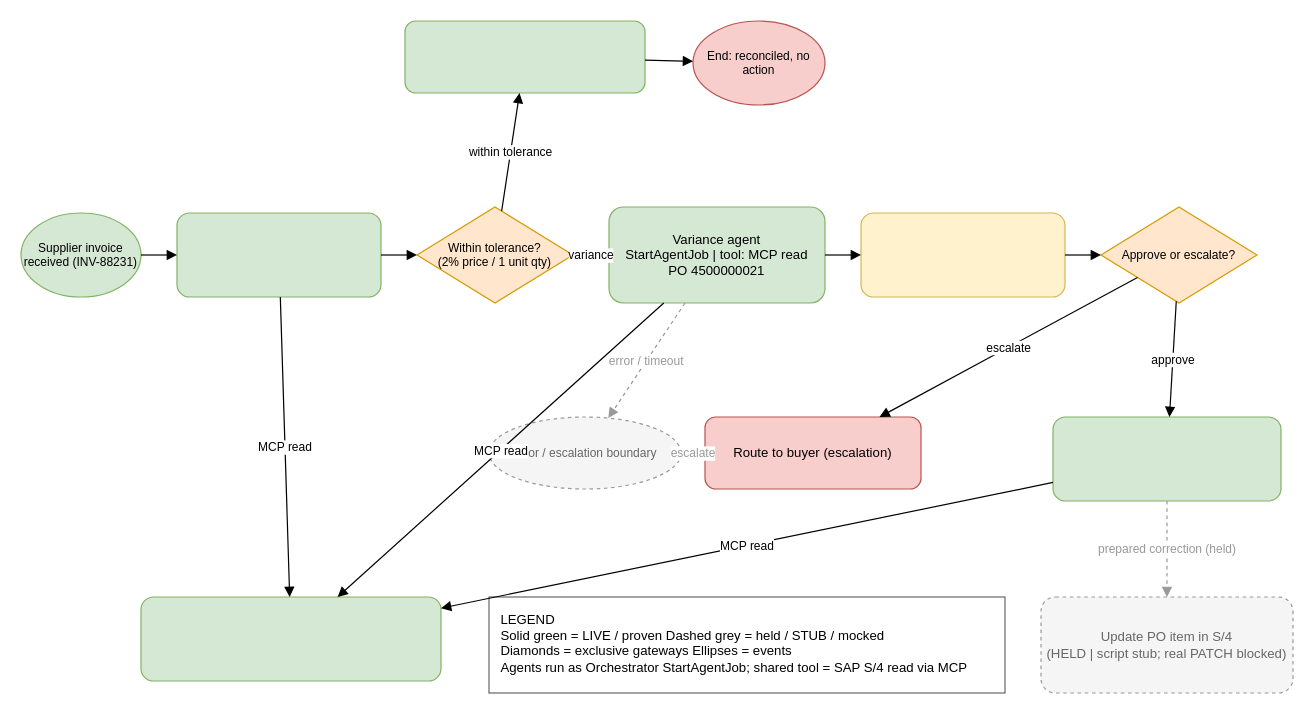
The diagram is 1314 pixels wide and 714 high, and some of its shapes have lost their labels. Here are the shapes that lost their labels. From the top down, the centre of each, then its label:
At point 524,56: "Auto-approve - within tolerance (no correction needed)".
At point 278,254: "Matching agent StartAgentJob | tool: MCP read".
At point 962,254: "Human approval gate (Maestro message event)".
At point 1166,458: "Posting-prep agent StartAgentJob | tool: MCP read".
At point 290,638: "SAP S/4 read via MCP (execute-entity-operation)".
